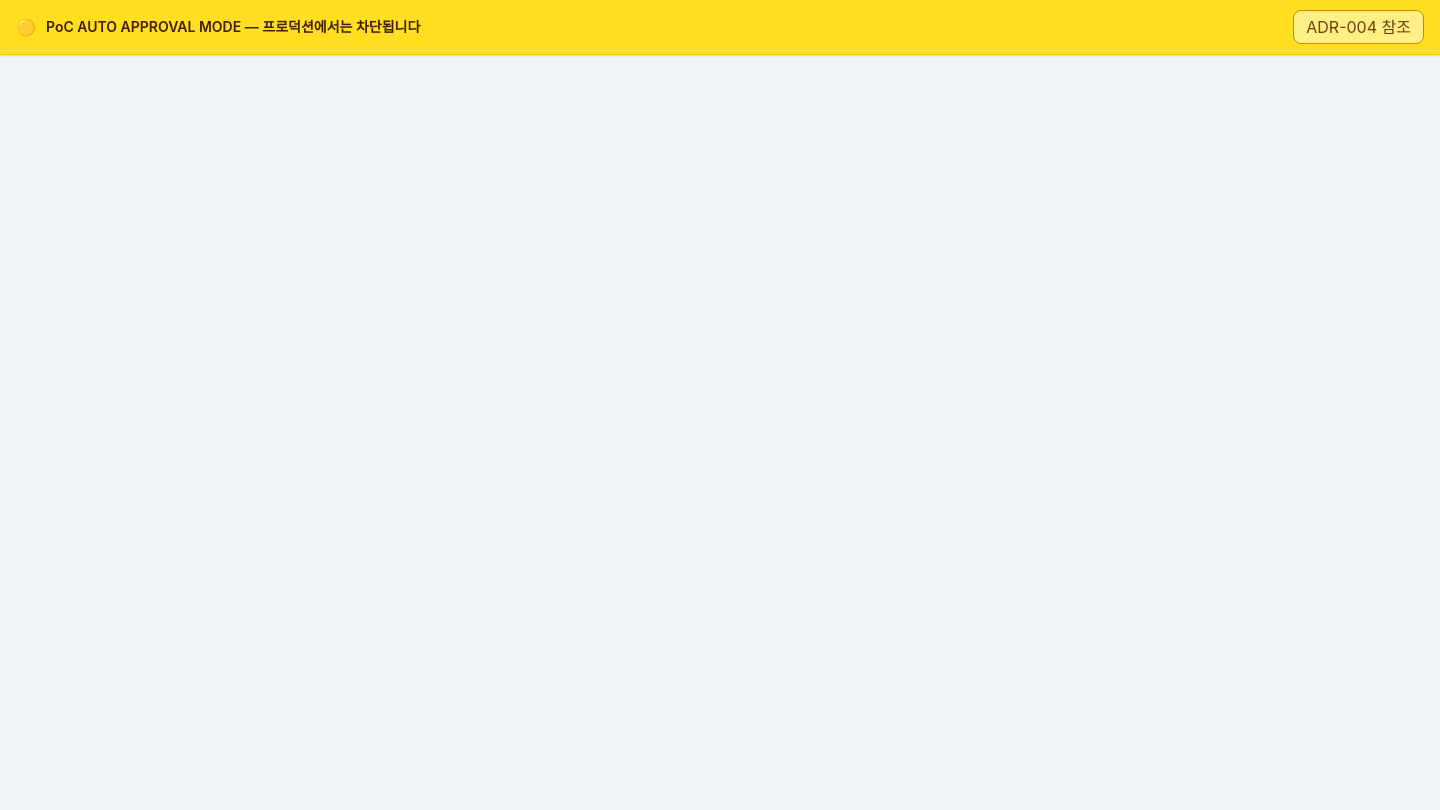
it: PoCAutoApprovalBadge a11y › opens dialog on click with dialog role and label
Click the button "ADR-004 참조" at (1359, 27), box [1293, 10, 1424, 44]
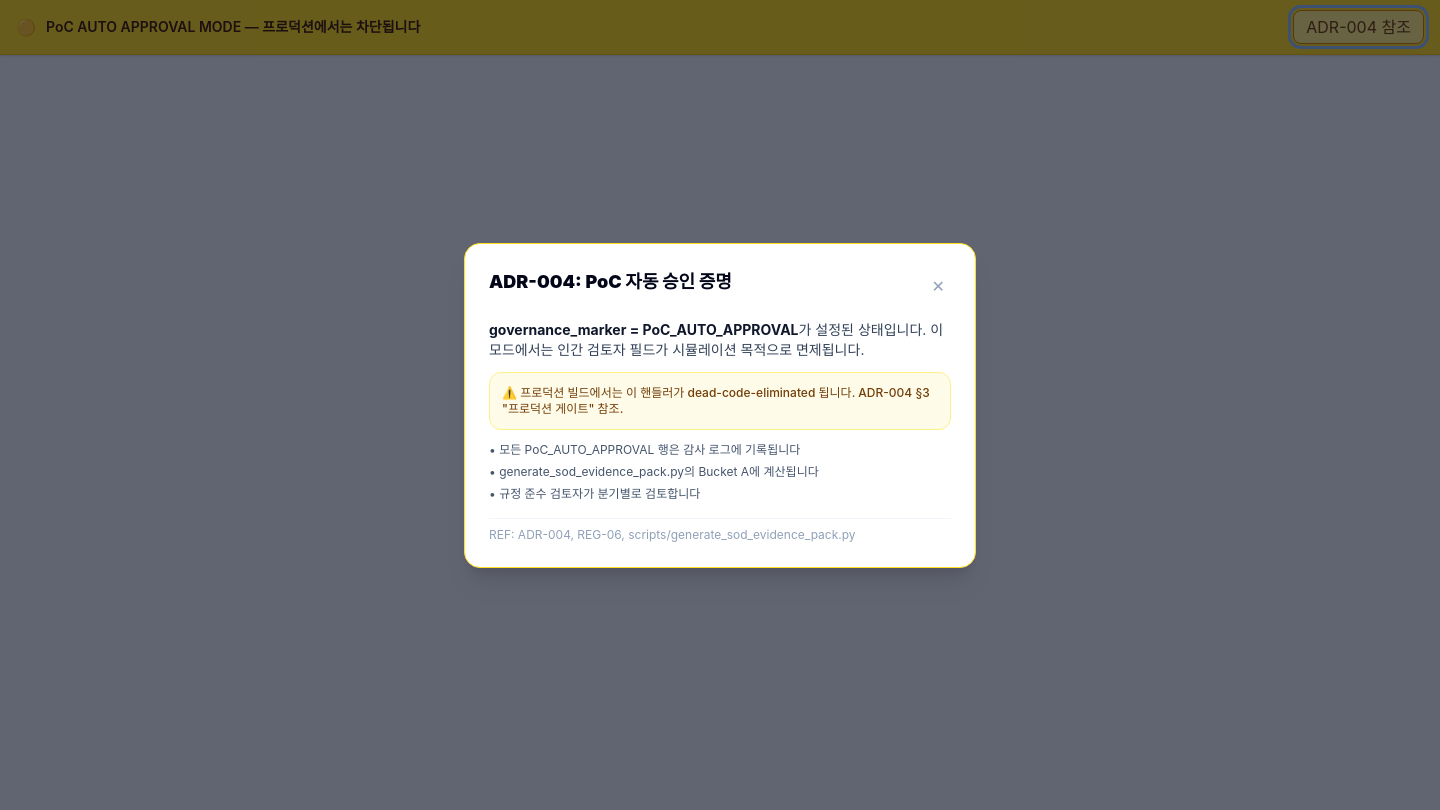
Check: the dialog is shown
